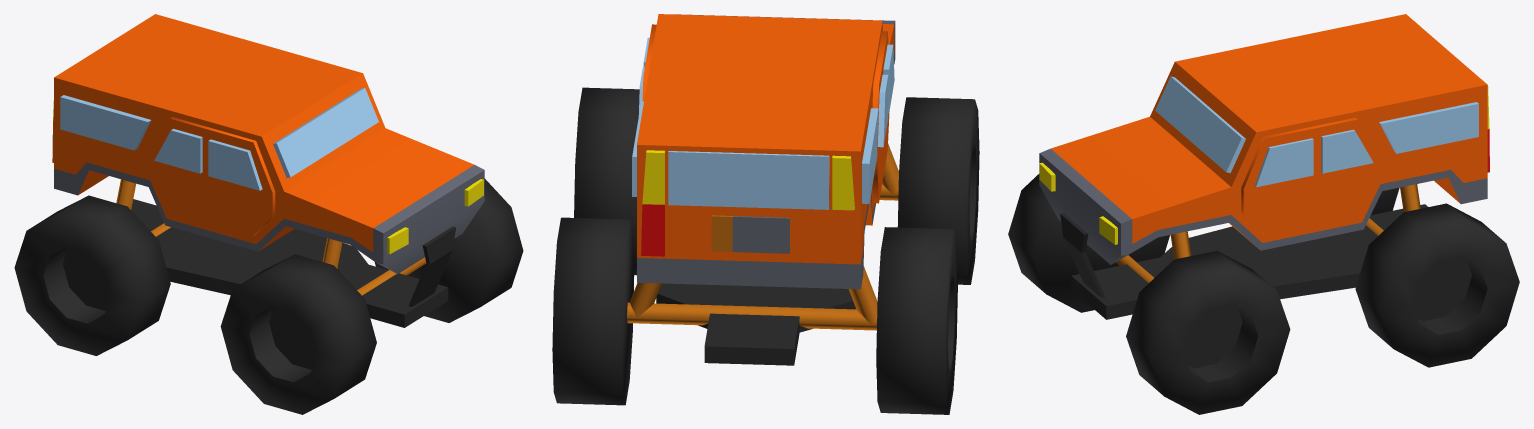
The model's file is interior_E_004.fbx.
3 views of the same model, side by side, from view 1: azimuth 30°, elevation 25°; view 2: azimuth 150°, elevation 25°; view 3: azimuth 270°, elevation 25° (orthographic). The views are drawn at different scales.
Parts seen in each view (by area): view 1: interior_E_004; view 2: interior_E_004; view 3: interior_E_004.
Part boxes in pixels (x1=…): interior_E_004: x1=14, y1=14, x2=523, y2=414; interior_E_004: x1=552, y1=14, x2=979, y2=414; interior_E_004: x1=1008, y1=14, x2=1519, y2=414.
Bounding box in the file's own units: 54.92 × 30.5 × 59.44.
